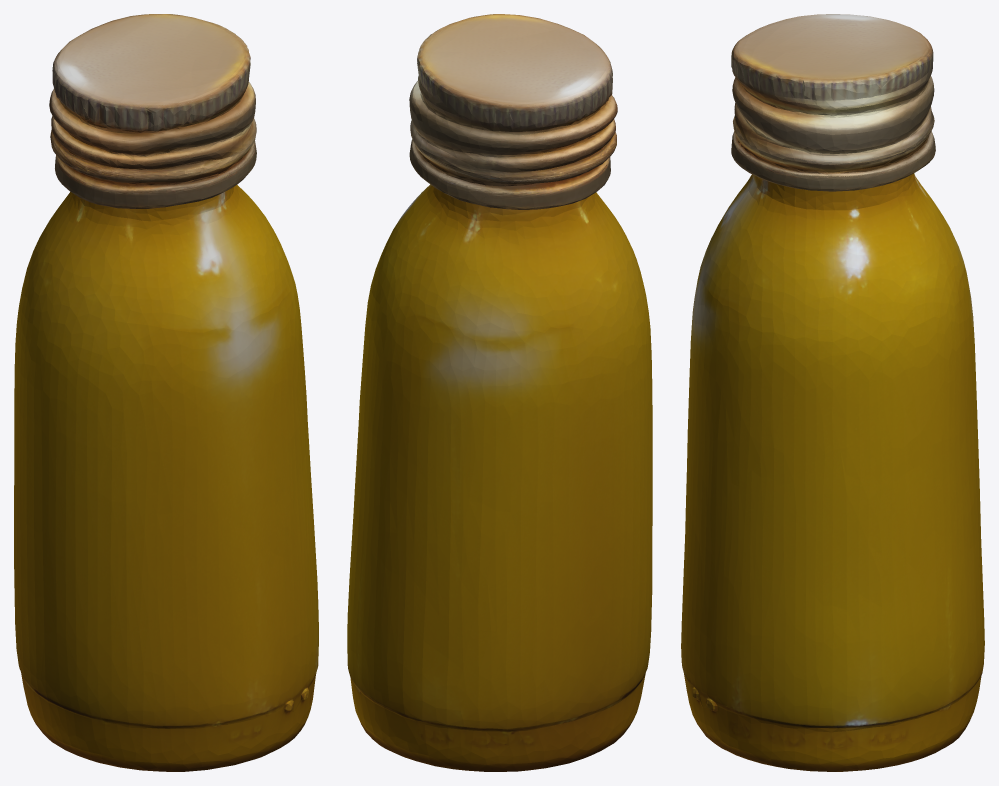
The model's file is volta-bottle.glb.
3 renders of one model, left to right at view 1: azimuth 30°, elevation 25°; view 2: azimuth 150°, elevation 25°; view 3: azimuth 270°, elevation 25°, orthographic.
Parts seen in each view (by area): view 1: world; view 2: world; view 3: world.
Boxes of the visible parts, x1,y1,x2,y2 form: world: (14, 14, 318, 771); world: (347, 14, 652, 771); world: (681, 14, 984, 771).
Size of the model in its own units: 0.4175 by 0.9997 by 0.4137.
1 material, 1 textured.
